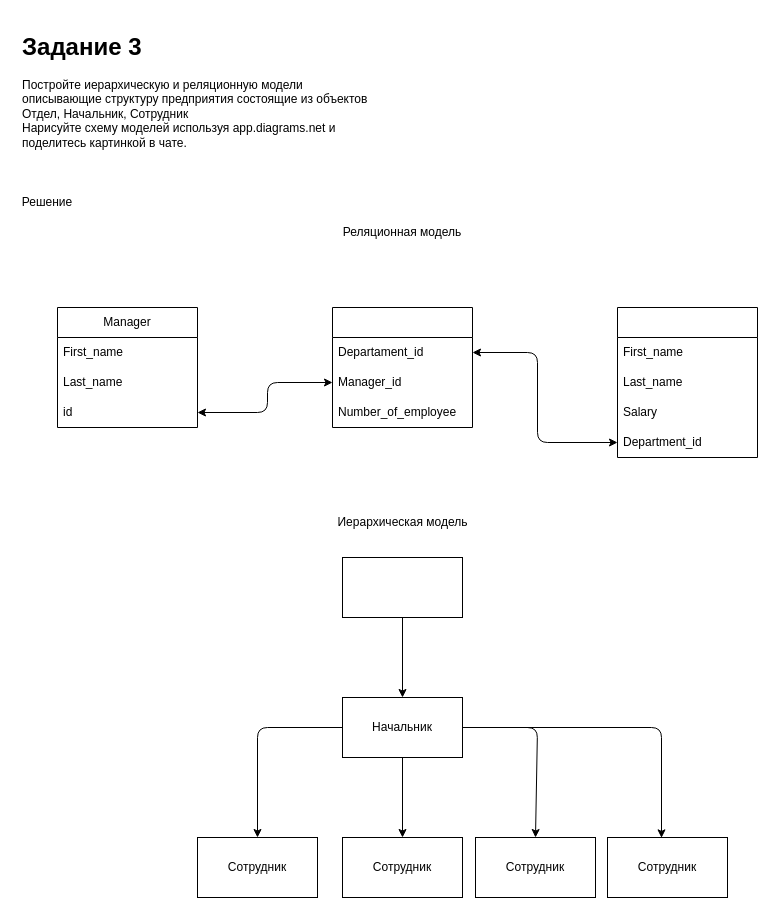
Some shapes in this 775 by 915 pixel diagram are drawn without their labels. Here are the shapes that lost their labels. From the top down, the box of each, then its label:
(332, 306, 472, 428): Deprtament
(616, 306, 758, 458): Employee
(342, 556, 462, 618): Отдел
